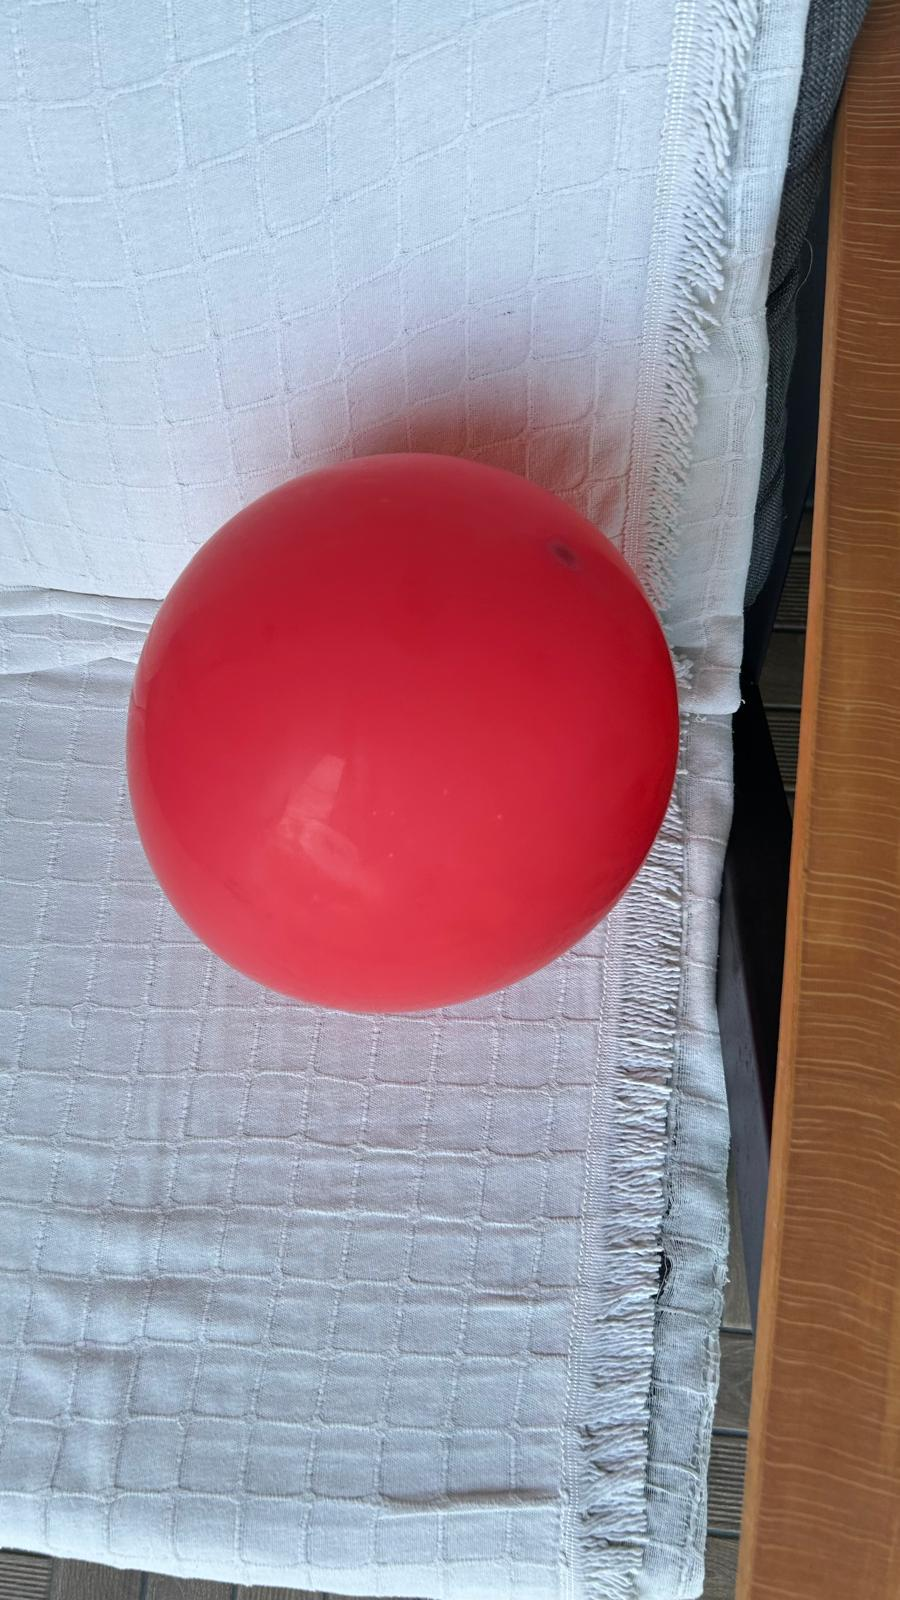red: (114, 437, 684, 1018)
